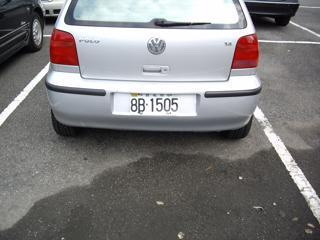plate: (127, 94, 181, 117)
